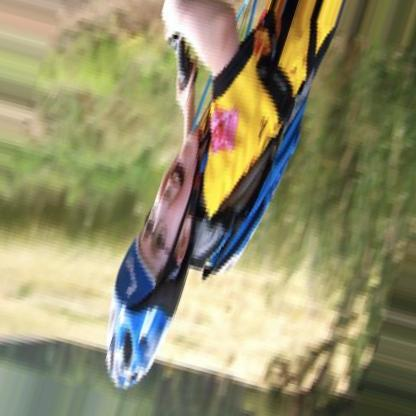with helmet: (102, 133, 201, 394)
